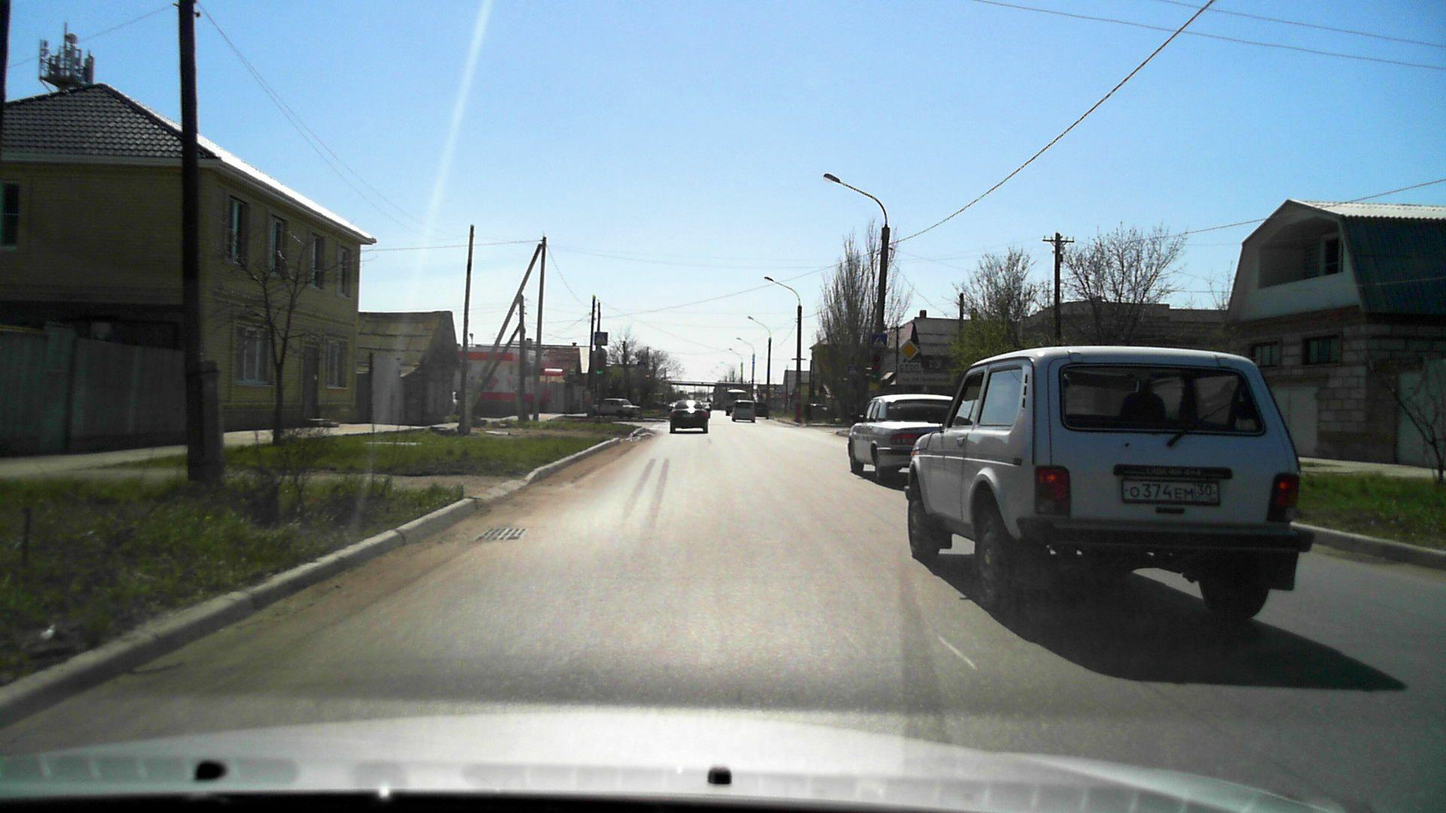road_sign: (898, 338, 922, 362)
